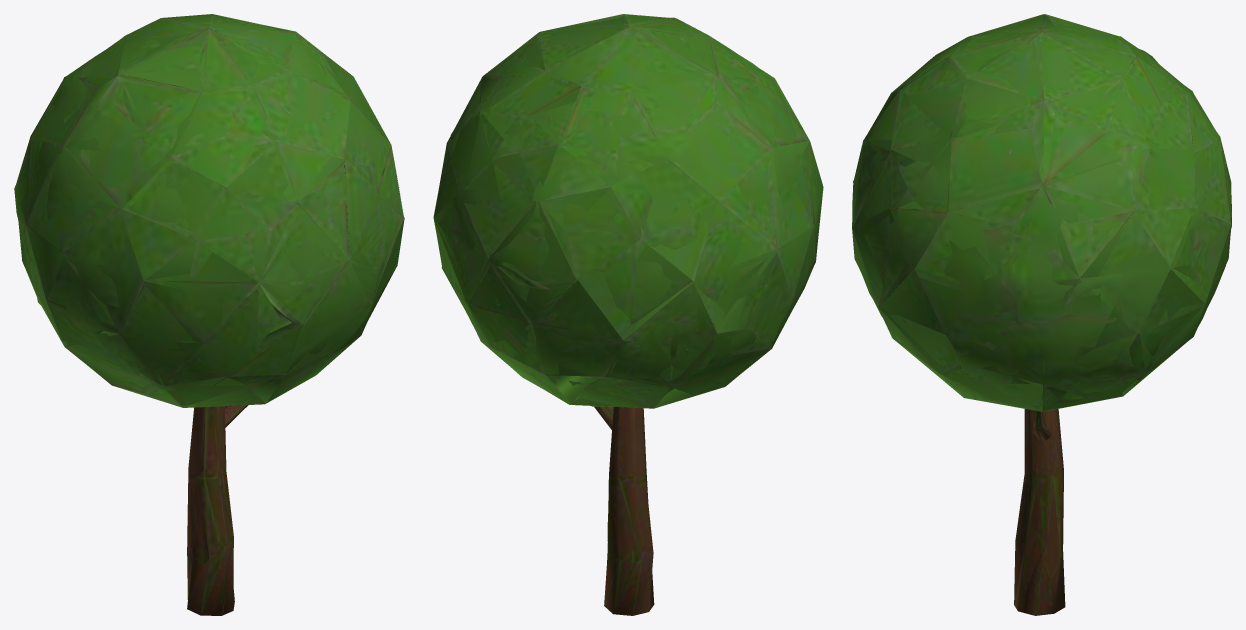
File: 42-round-leafy-tree.glb
3 renders of one model, left to right at view 1: azimuth 30°, elevation 25°; view 2: azimuth 150°, elevation 25°; view 3: azimuth 270°, elevation 25°, orthographic.
Parts seen in each view (by area): view 1: geometry_0; view 2: geometry_0; view 3: geometry_0.
Boxes of the visible parts, <box> form: geometry_0: <box>14,14,404,615</box>; geometry_0: <box>433,14,823,615</box>; geometry_0: <box>852,14,1231,615</box>.
Bounding box in the file's own units: 0.5748 × 0.9517 × 0.5713.
Materials: 1 (1 with a texture image).
